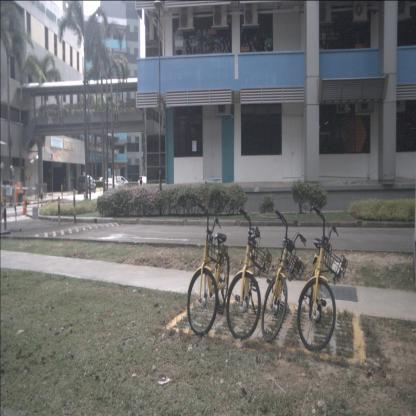cone: (22, 199, 27, 215), (37, 192, 39, 209)
